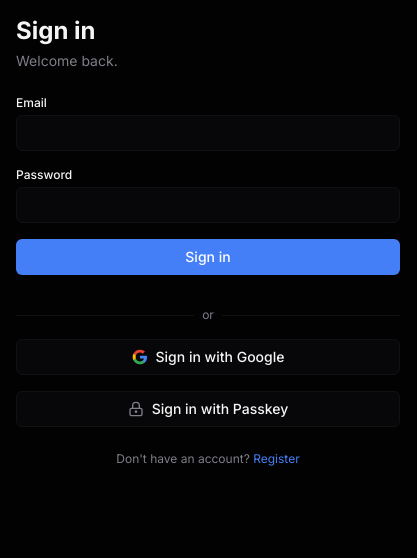
Scenario: LoginView › toggles to register mode
Click the button "Register". click: (276, 459)
box: top-left (253, 451), bottom-right (300, 467)
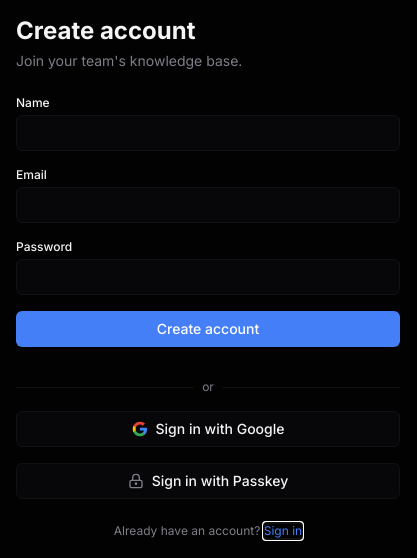
Expected: the heading "Create account" is shown, top-left (16, 16), bottom-right (196, 45)
Expected: the text "Join your team's knowledge base." is shown, top-left (16, 52), bottom-right (242, 69)
Expected: the text "Already have an account?" is shown, top-left (114, 523), bottom-right (260, 538)
